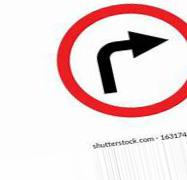right: (56, 3, 187, 118)
